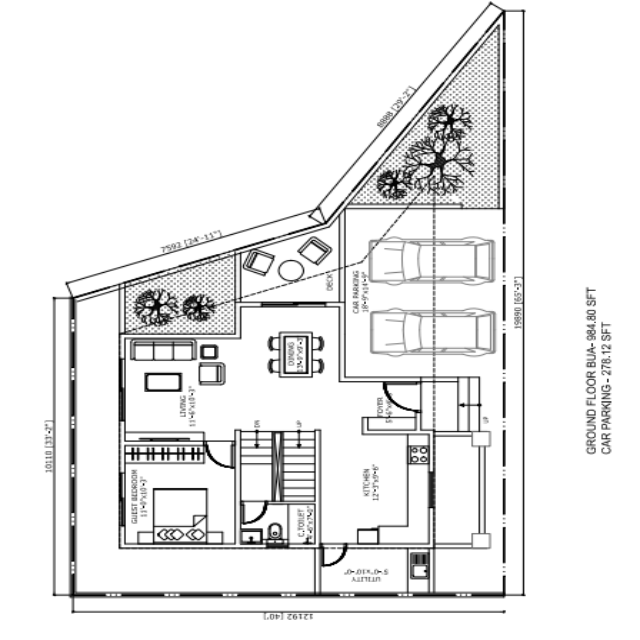door: (380, 379, 423, 415), (204, 439, 236, 470), (241, 499, 270, 525), (321, 542, 349, 568)
